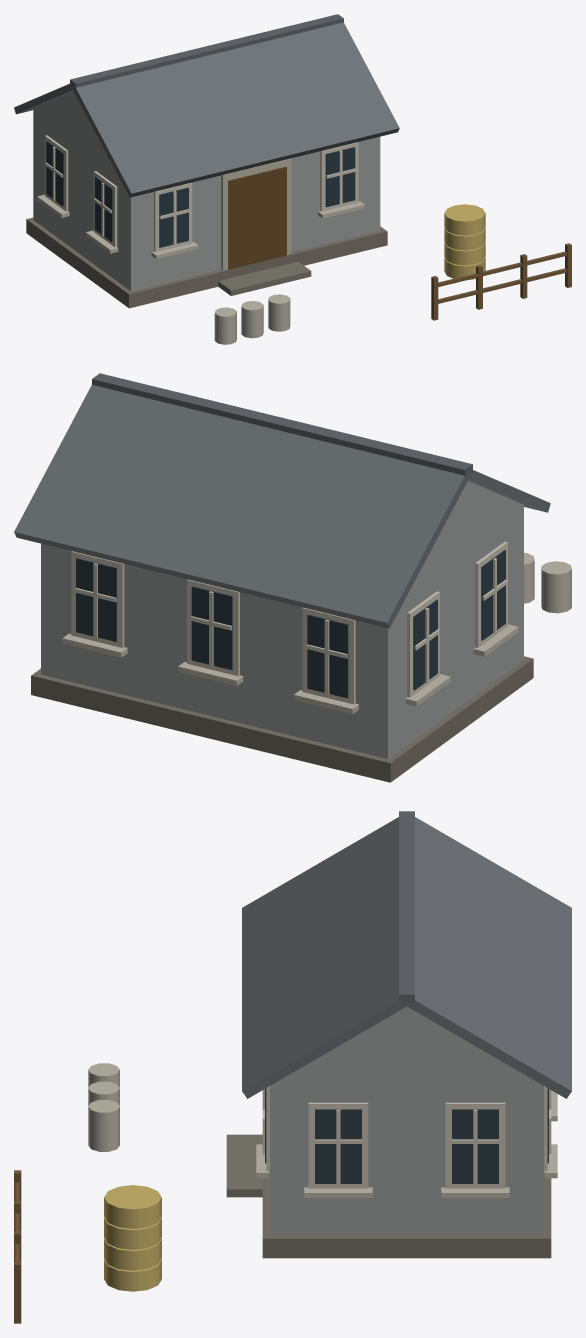
The model's file is procedural_dairy@6.glb.
3 renders of one model, top to bottom at view 1: azimuth 30°, elevation 25°; view 2: azimuth 150°, elevation 25°; view 3: azimuth 270°, elevation 25°, orthographic. The views are drawn at different scales.
Parts seen in each view (by area): view 1: part_0; view 2: part_0; view 3: part_0.
Boxes of the visible parts, x1,y1,x2,y2 form: part_0: [14, 14, 571, 344]; part_0: [14, 373, 571, 782]; part_0: [14, 811, 571, 1323].
Bounding box in the file's own units: 8.06 × 4.08 × 7.74.
